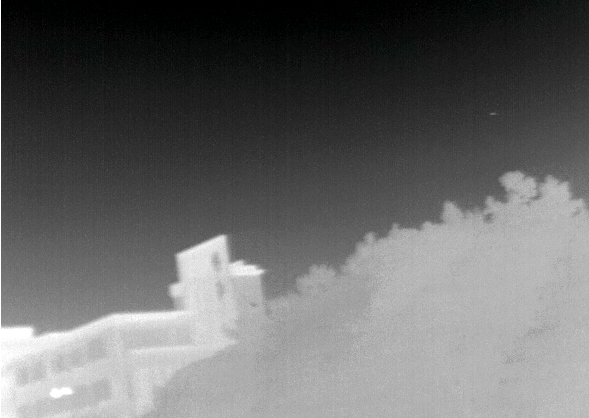dim target: (489, 111, 497, 117)
